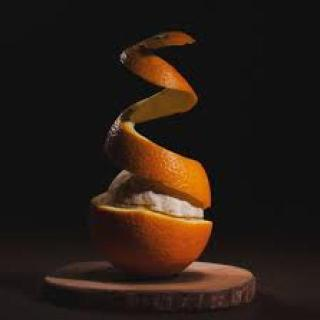orange: (81, 25, 219, 278)
